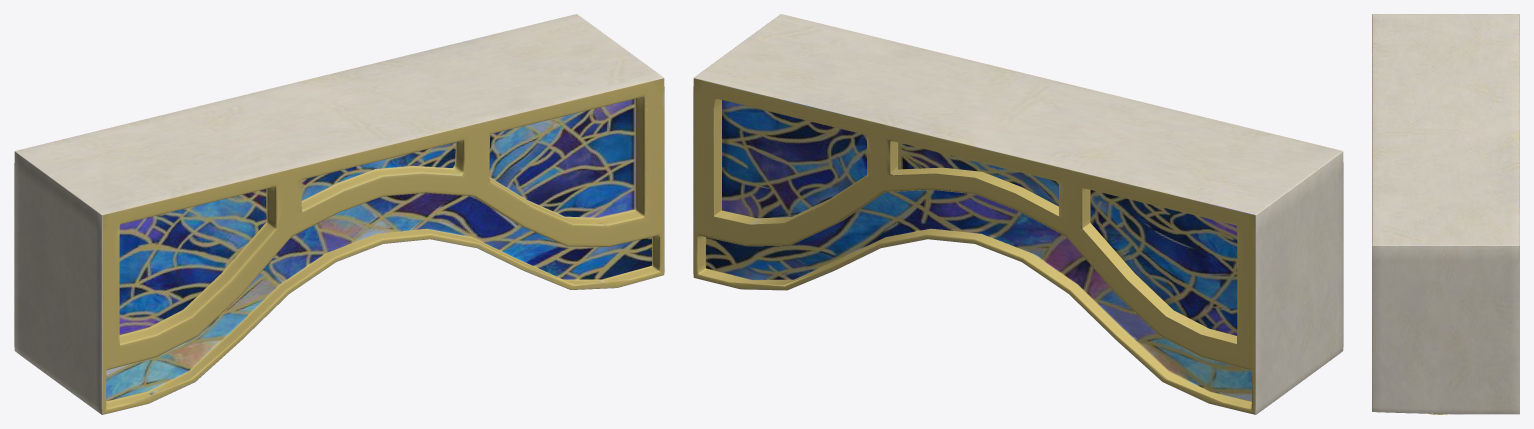
The model's file is archwayTop_lowPolyCompressed.glb.
3 renders of one model, left to right at view 1: azimuth 30°, elevation 25°; view 2: azimuth 150°, elevation 25°; view 3: azimuth 270°, elevation 25°, orthographic. The views are drawn at different scales.
Parts seen in each view (by area): view 1: archway_polySurface71.001; view 2: archway_polySurface71.001; view 3: archway_polySurface71.001.
Boxes of the visible parts, x1,y1,x2,y2 form: archway_polySurface71.001: [14, 14, 664, 414]; archway_polySurface71.001: [693, 14, 1343, 414]; archway_polySurface71.001: [1372, 14, 1519, 414].
Bounding box in the file's own units: 1.7 × 0.6039 × 0.4575.
1 material, 1 textured.
